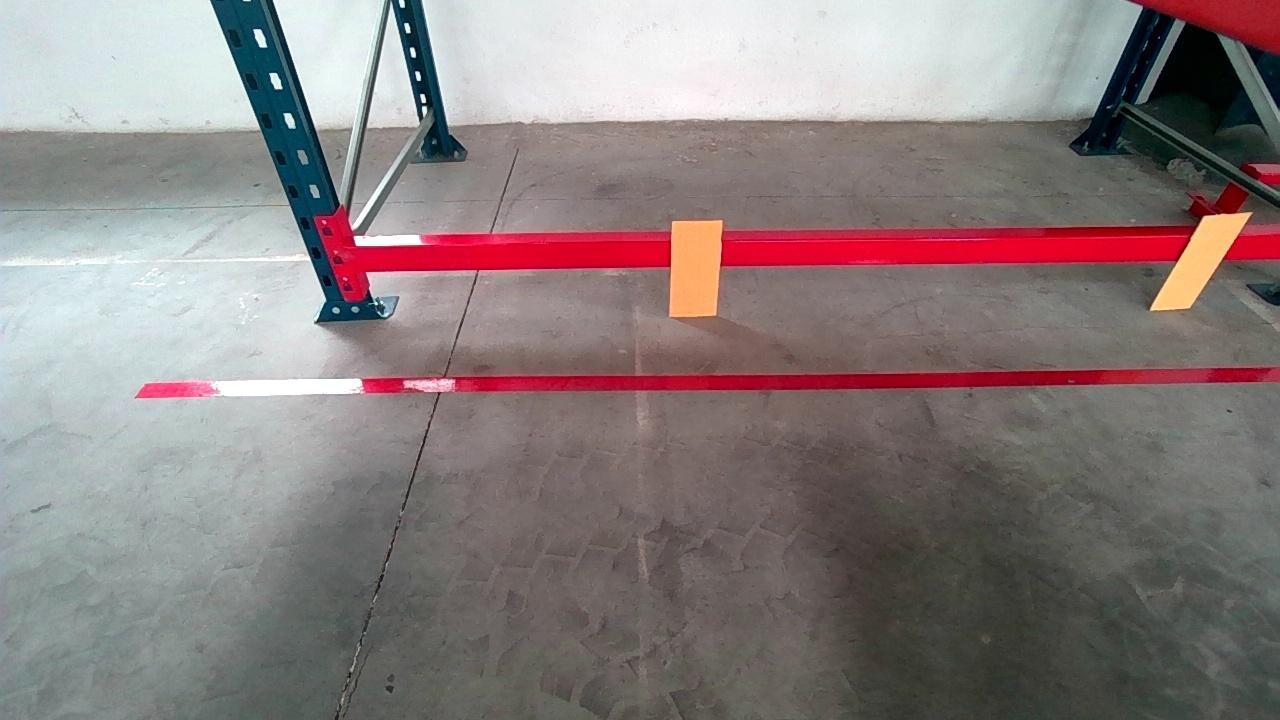h_rack: (359, 235, 1280, 270)
orange_strip: (1152, 212, 1250, 307), (671, 219, 722, 315)
red_line: (133, 366, 1280, 400)
